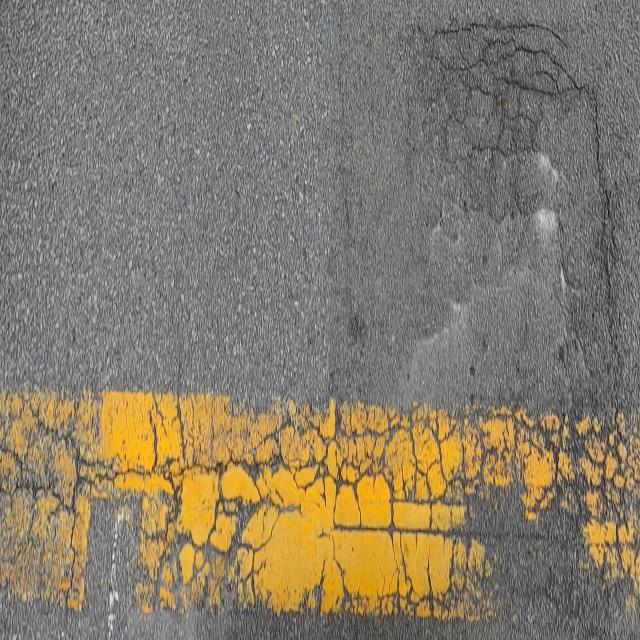Retak-Buaya: (0, 392, 637, 619), (425, 14, 625, 363)
